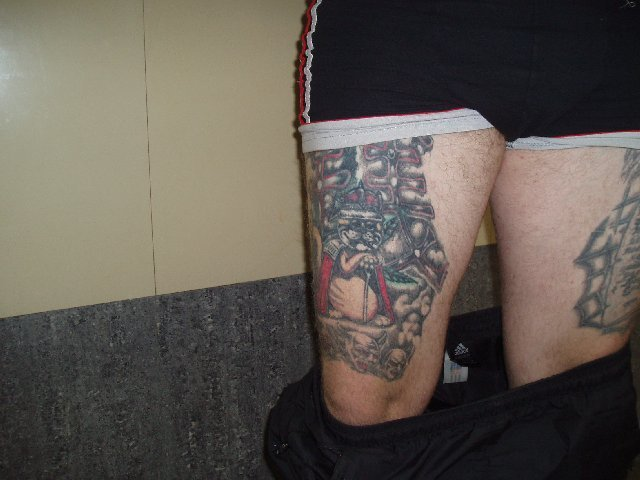tatu8_kot: (308, 137, 427, 388)
